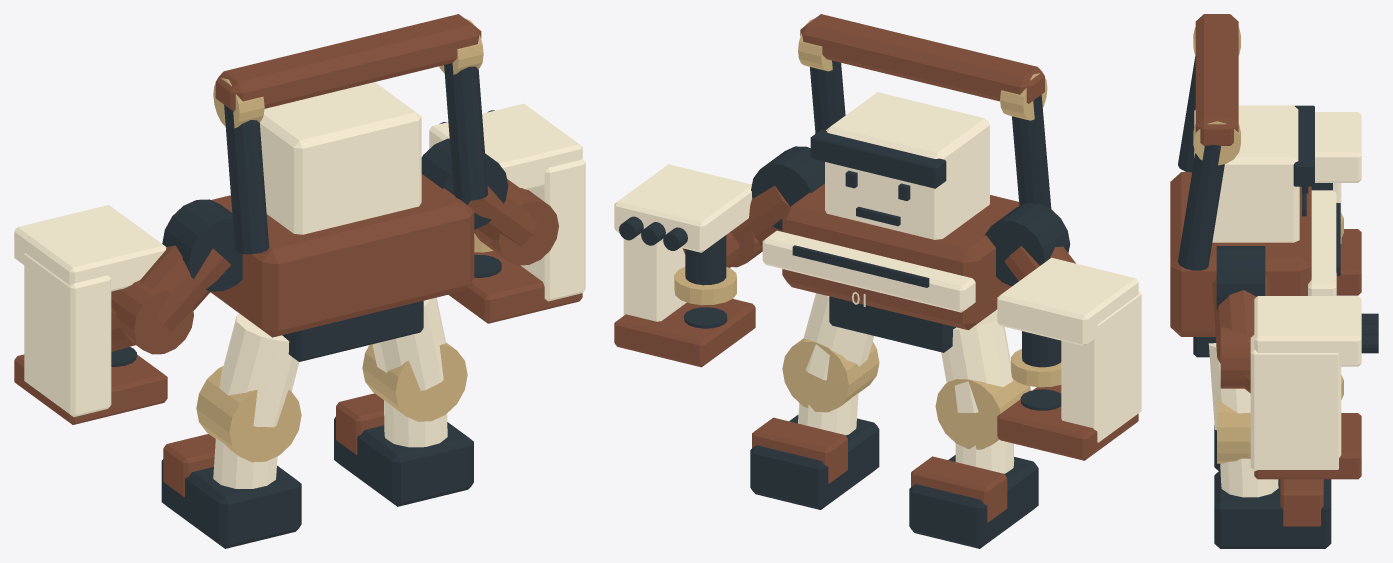
3 views of the same model, side by side, from view 1: azimuth 30°, elevation 25°; view 2: azimuth 150°, elevation 25°; view 3: azimuth 270°, elevation 25° (orthographic). The views are drawn at different scales.
Parts seen in each view (by area): view 1: press_base, head_block, L_claw_spine, press_handle, L_claw_upper_jaw, L_shoe, R_shoe, R_claw_upper_jaw, R_claw_spine, L_thigh, L_kneecap, lever_rail_-0.48 (+18 smaller); view 2: head_block, press_base, press_handle, L_claw_spine, L_claw_upper_jaw, R_claw_upper_jaw, paper_feed_lip, L_shoe, R_shoe, R_claw_lower_jaw, L_thigh, R_claw_spine (+25 smaller); view 3: R_claw_spine, head_block, press_base, R_claw_upper_jaw, press_handle, R_shoe, lever_rail_0.48, L_claw_upper_jaw, paper_feed_lip, R_shoulder_pin, R_claw_lower_jaw, R_shoe_toecap (+12 smaller).
Part boxes in pixels (box(x1,y1,x2,y2)): press_base: box(210, 174, 474, 337); head_block: box(259, 82, 421, 234); L_claw_spine: box(24, 253, 111, 416); press_handle: box(215, 14, 481, 111); L_claw_upper_jaw: box(14, 205, 166, 291); L_shoe: box(161, 459, 301, 548); R_shoe: box(334, 416, 473, 506); R_claw_upper_jaw: box(429, 103, 582, 189); R_claw_spine: box(520, 159, 585, 301); L_thigh: box(219, 313, 299, 427); L_kneecap: box(196, 366, 301, 462); lever_rail_-0.48: box(224, 105, 269, 254); head_block: box(825, 92, 989, 239); press_base: box(782, 183, 1019, 330); press_handle: box(800, 14, 1044, 103); L_claw_spine: box(1061, 291, 1141, 442); L_claw_upper_jaw: box(997, 257, 1138, 346); R_claw_upper_jaw: box(614, 164, 752, 252); paper_feed_lip: box(762, 230, 975, 312); L_shoe: box(909, 455, 1038, 548); R_shoe: box(750, 415, 879, 509); R_claw_lower_jaw: box(614, 299, 755, 367); L_thigh: box(941, 310, 1012, 412); R_claw_spine: box(623, 237, 686, 321); R_claw_spine: box(1250, 335, 1341, 471); head_block: box(1194, 105, 1299, 242); press_base: box(1170, 172, 1311, 336); R_claw_upper_jaw: box(1254, 296, 1361, 366); press_handle: box(1195, 14, 1238, 145); R_shoe: box(1214, 470, 1331, 548); lever_rail_0.48: box(1178, 145, 1224, 270); L_claw_upper_jaw: box(1315, 112, 1361, 182); paper_feed_lip: box(1308, 190, 1336, 295); R_shoulder_pin: box(1216, 246, 1265, 309); R_claw_lower_jaw: box(1254, 413, 1361, 479); R_shoe_toecap: box(1280, 479, 1323, 526).
Size of the model in its own units: 2.26 by 1.98 by 0.87.
